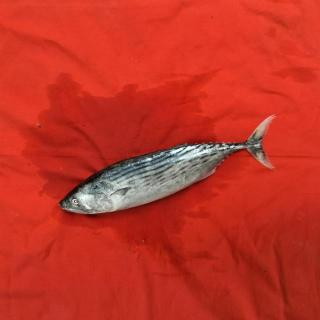Ikan: (59, 122, 268, 234)
